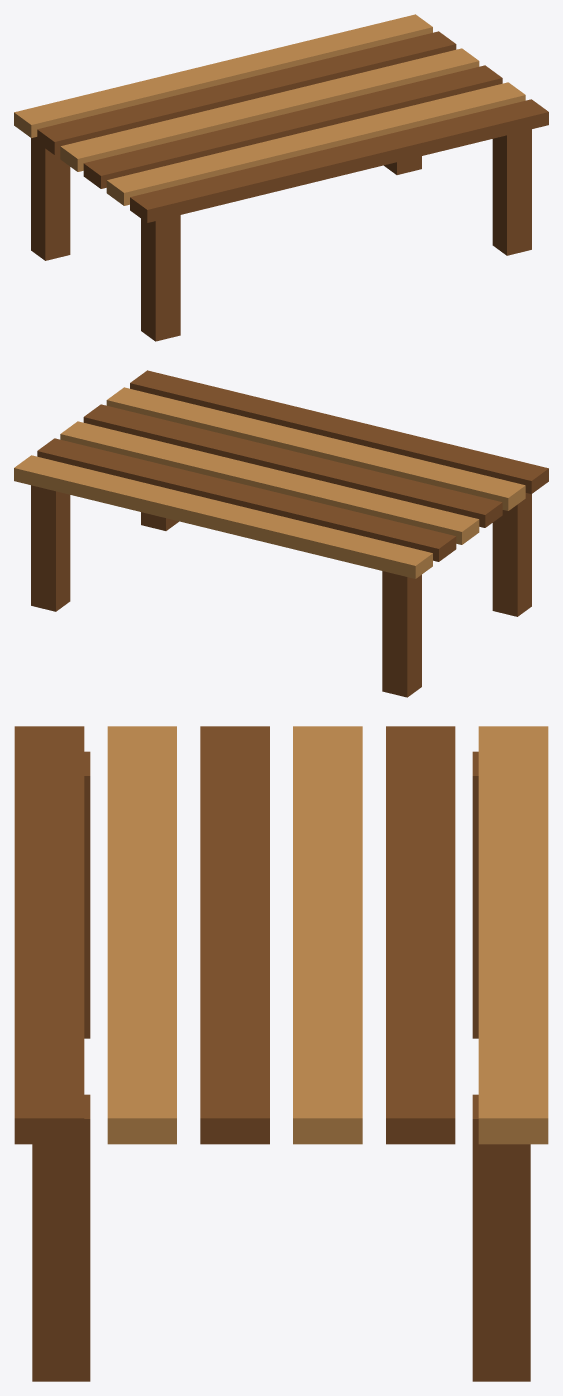
Rendered from dock_plank.glb.
3 views of the same model, one above another, from view 1: azimuth 30°, elevation 25°; view 2: azimuth 150°, elevation 25°; view 3: azimuth 270°, elevation 25° (orthographic). The views are drawn at different scales.
Parts seen in each view (by area): view 1: dock_plank; view 2: dock_plank; view 3: dock_plank.
Part boxes in pixels (x1=…): dock_plank: x1=14, y1=14, x2=548, y2=341; dock_plank: x1=14, y1=370, x2=548, y2=697; dock_plank: x1=14, y1=726, x2=548, y2=1381.
Bounding box in the file's own units: 1.6 × 0.525 × 0.92.
